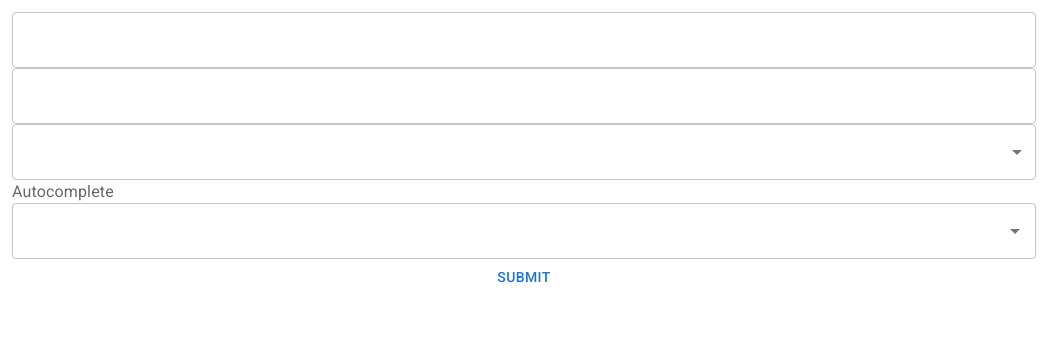
Test: BasicFormik Component › validates email field correctly
Click the button "Submit" at point(524, 277), box [12, 259, 1036, 296]
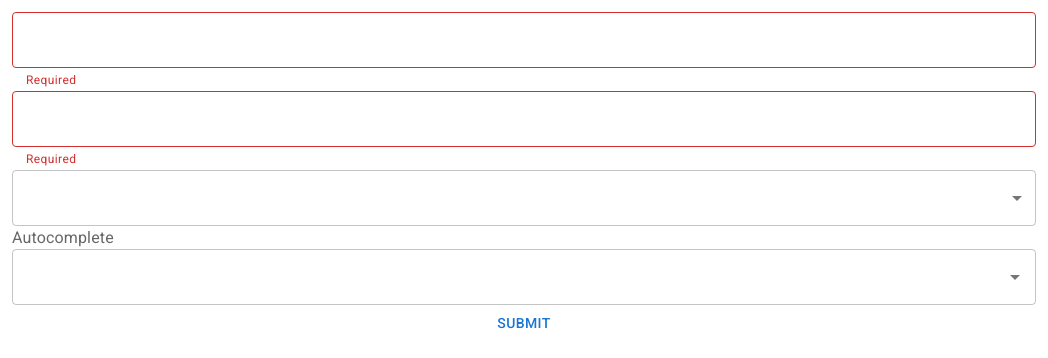
Result: the text "Required" is shown 2 times at [26, 73, 76, 87]; [26, 152, 76, 166]
Type "invalid" into the field named "email" at point(524, 40), box [12, 12, 1036, 68]
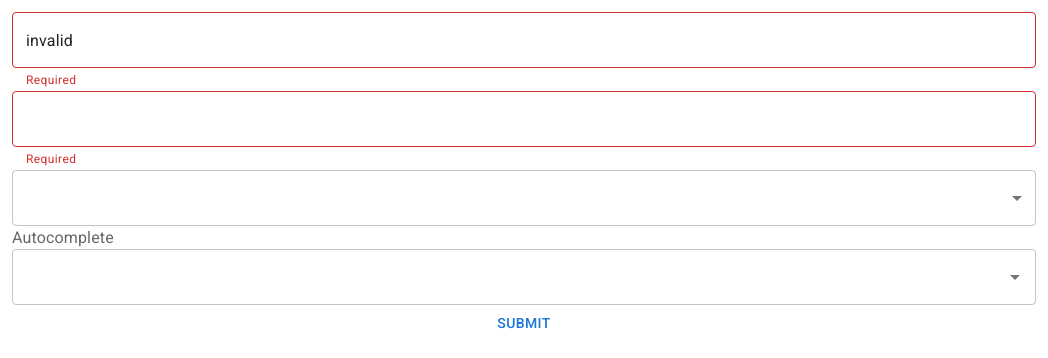
Click the button "Submit" at point(524, 323), box [12, 305, 1036, 341]
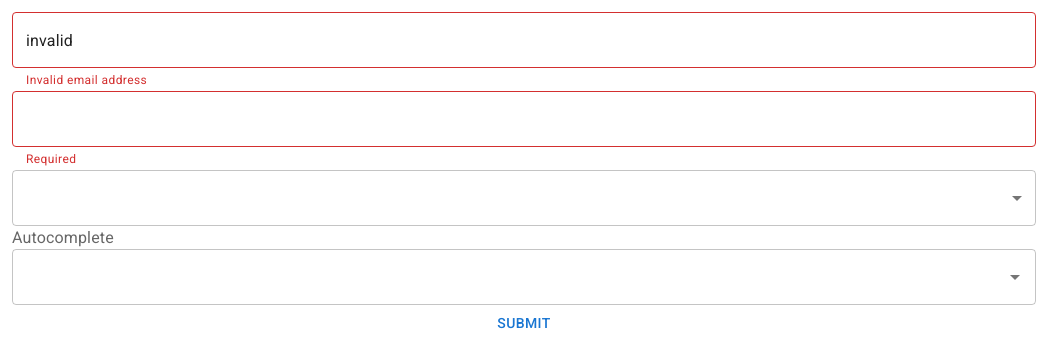
Result: the text "Invalid email address" is shown at [26, 73, 147, 87]
